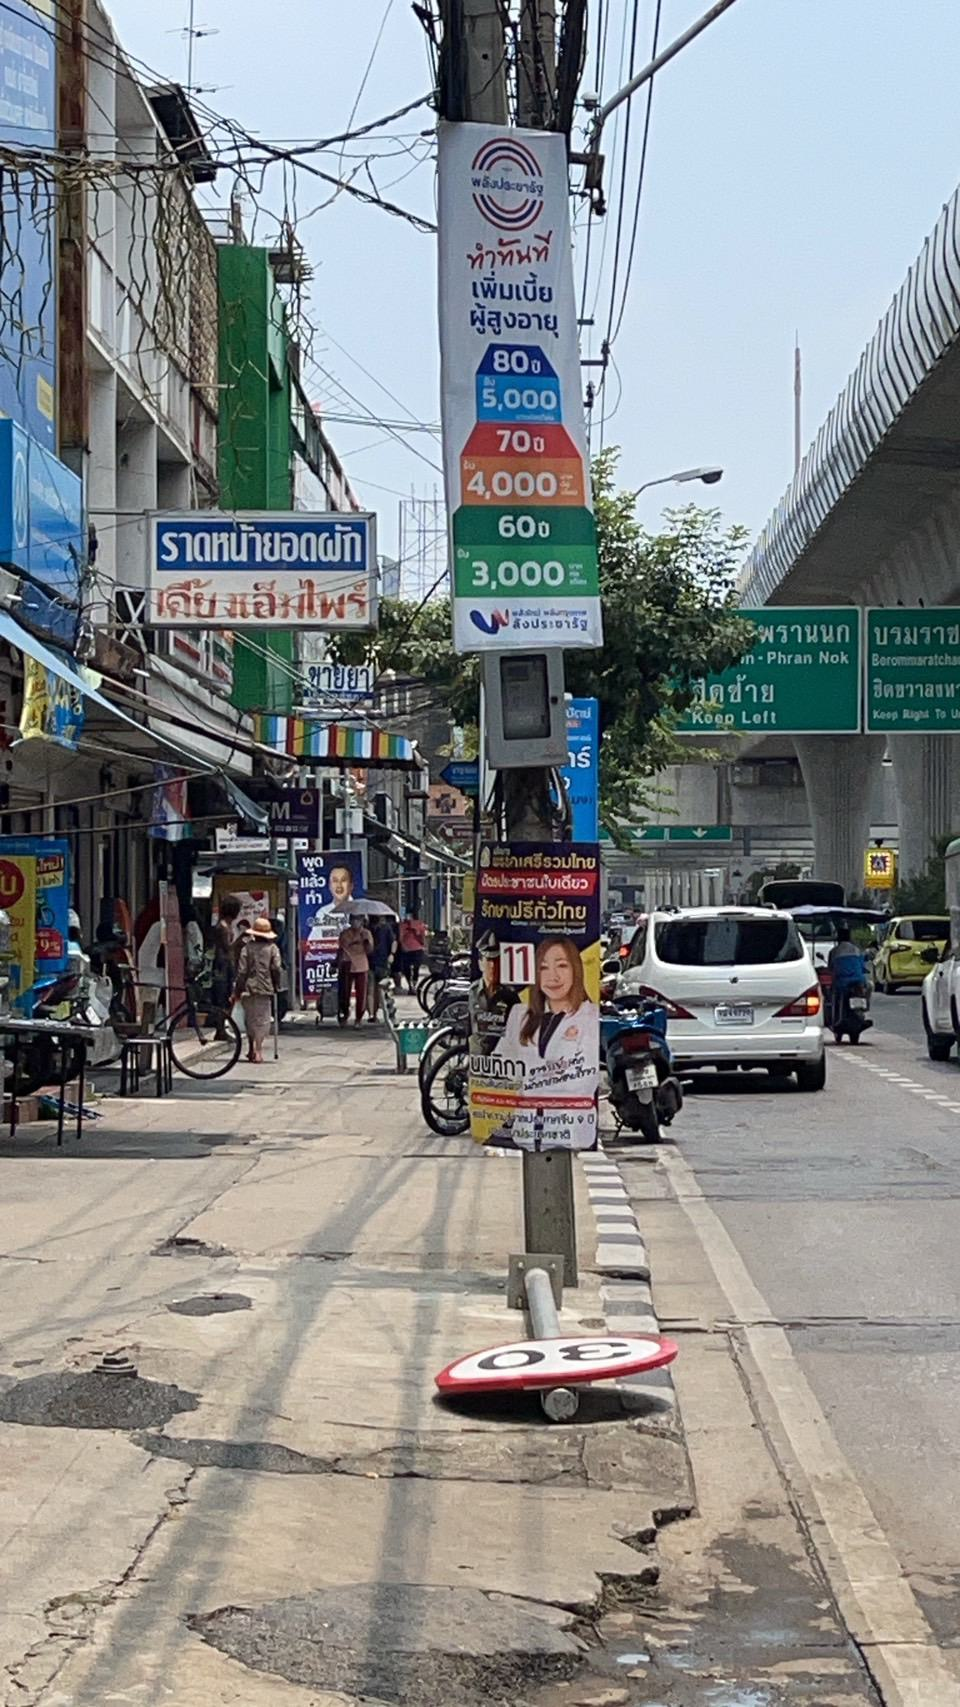Banner: (476, 834, 617, 1164)
